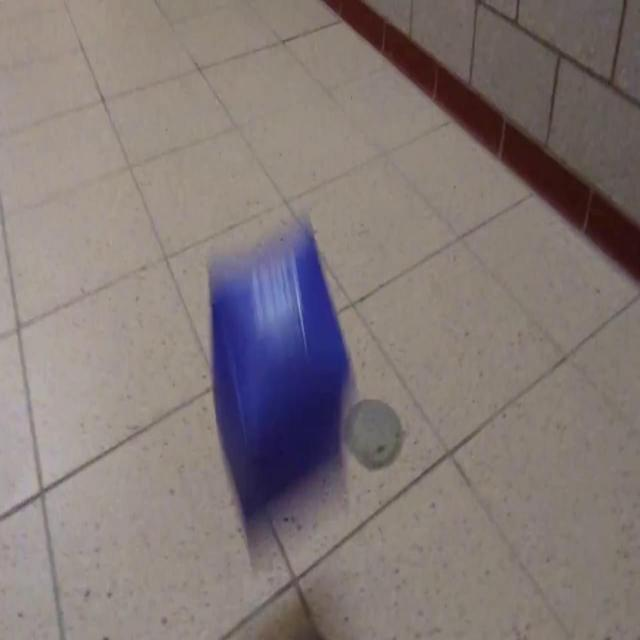frc_cube: (210, 229, 348, 521)
